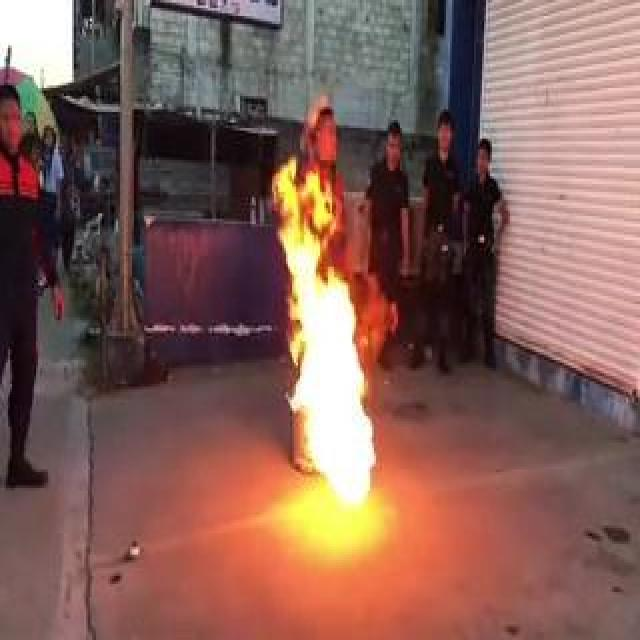Fire: (272, 157, 380, 520)
